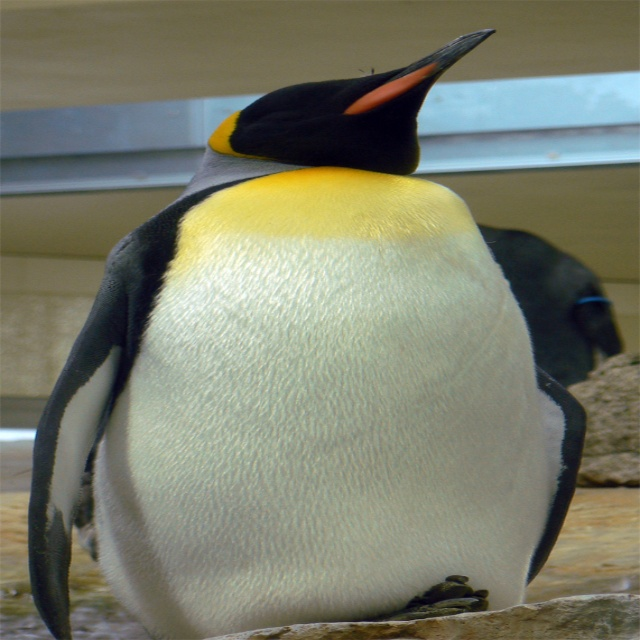Penguin: (28, 29, 623, 640)
